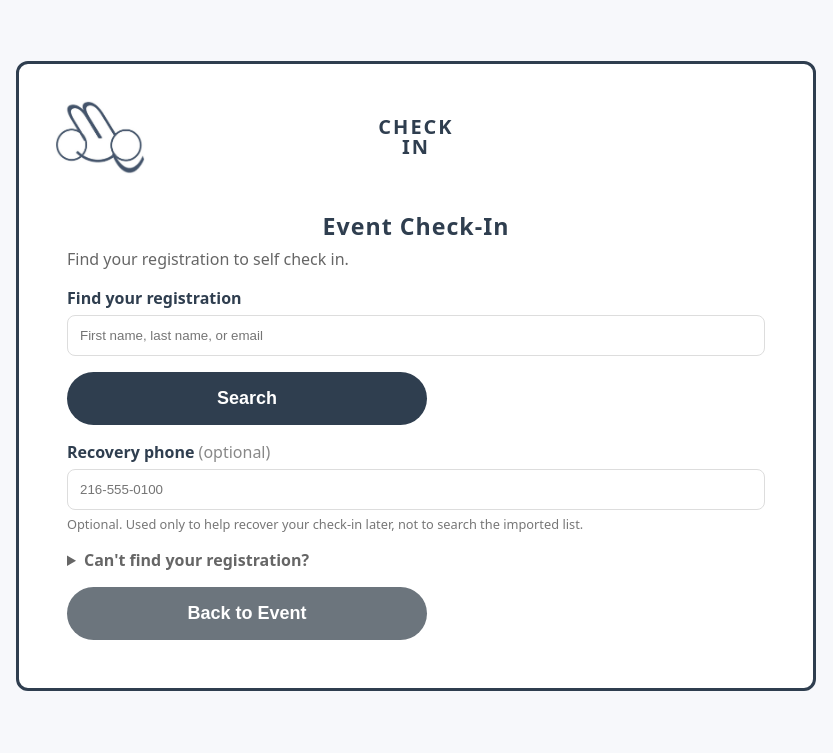
Scenario: GuestEventCheckIn › claims the selected duplicate-name imported registration by exact order without email confirmation
The image size is (833, 753).
Step 1. Type "Robert Covington" into the field with placeholder "First name, last name, or email" → (416, 336), box [67,315,765,356]
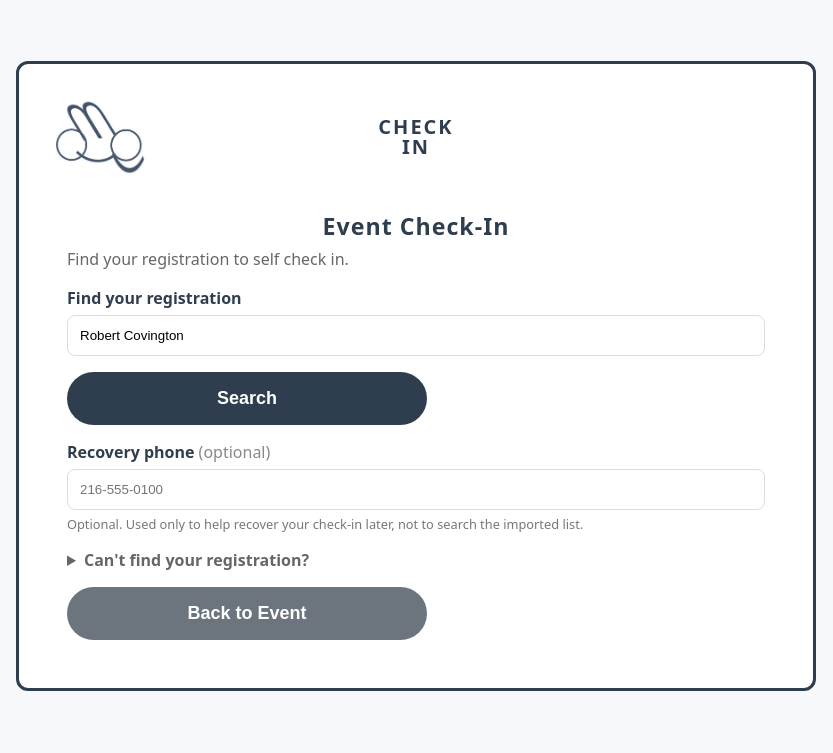
Step 2. Click the button "Search" → (247, 399), box [67,372,427,425]
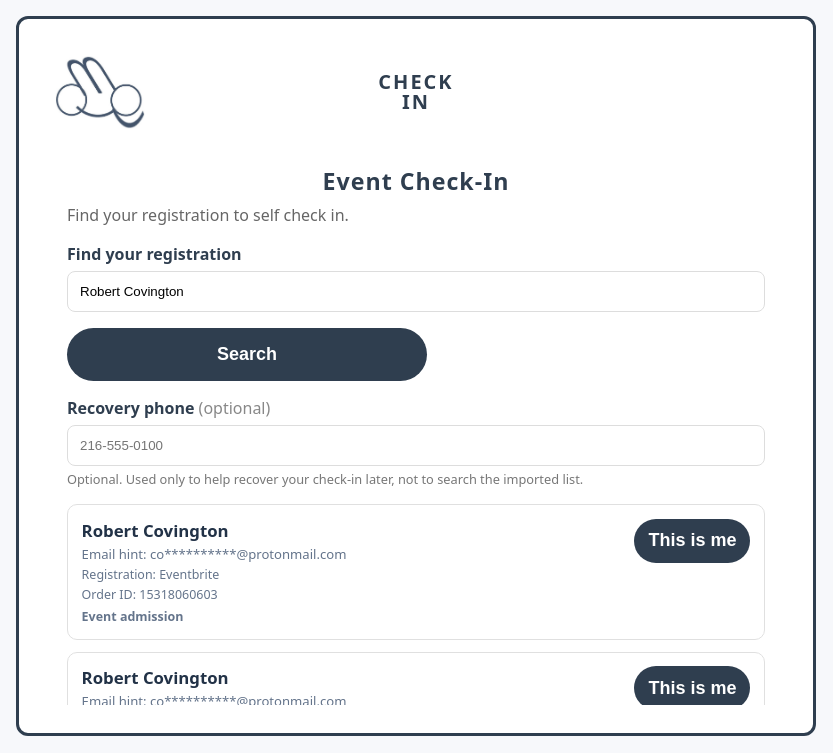
Expected: the text "Order ID: 15318060603" is shown, [82,586,218,603]
Step 3. Click the 2nd button "This is me" → (692, 688), box [634,666,750,710]
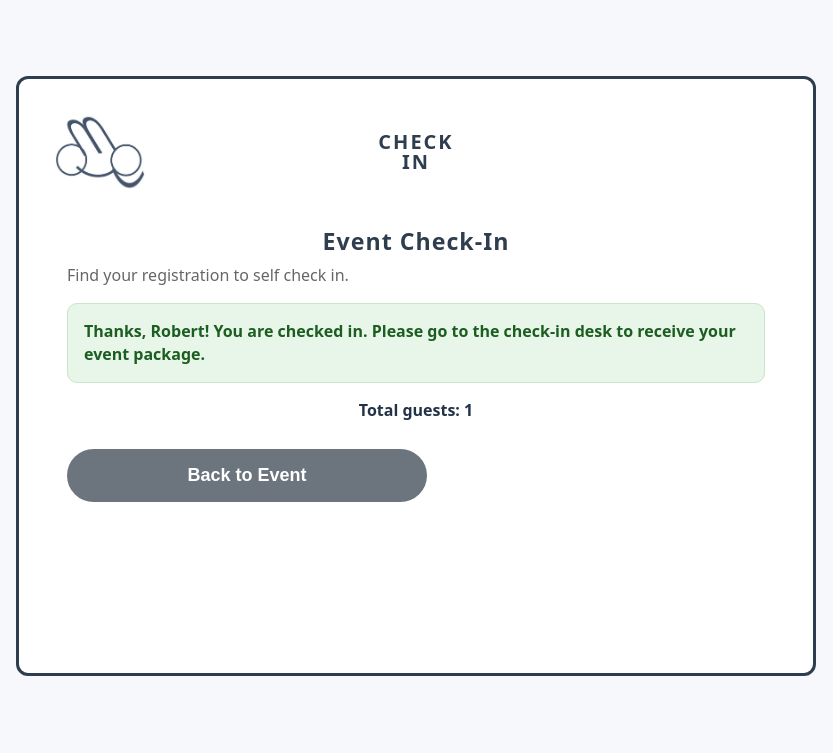
Expected: the text "Thanks, Robert! You are checked in." is shown, [84,320,736,365]
